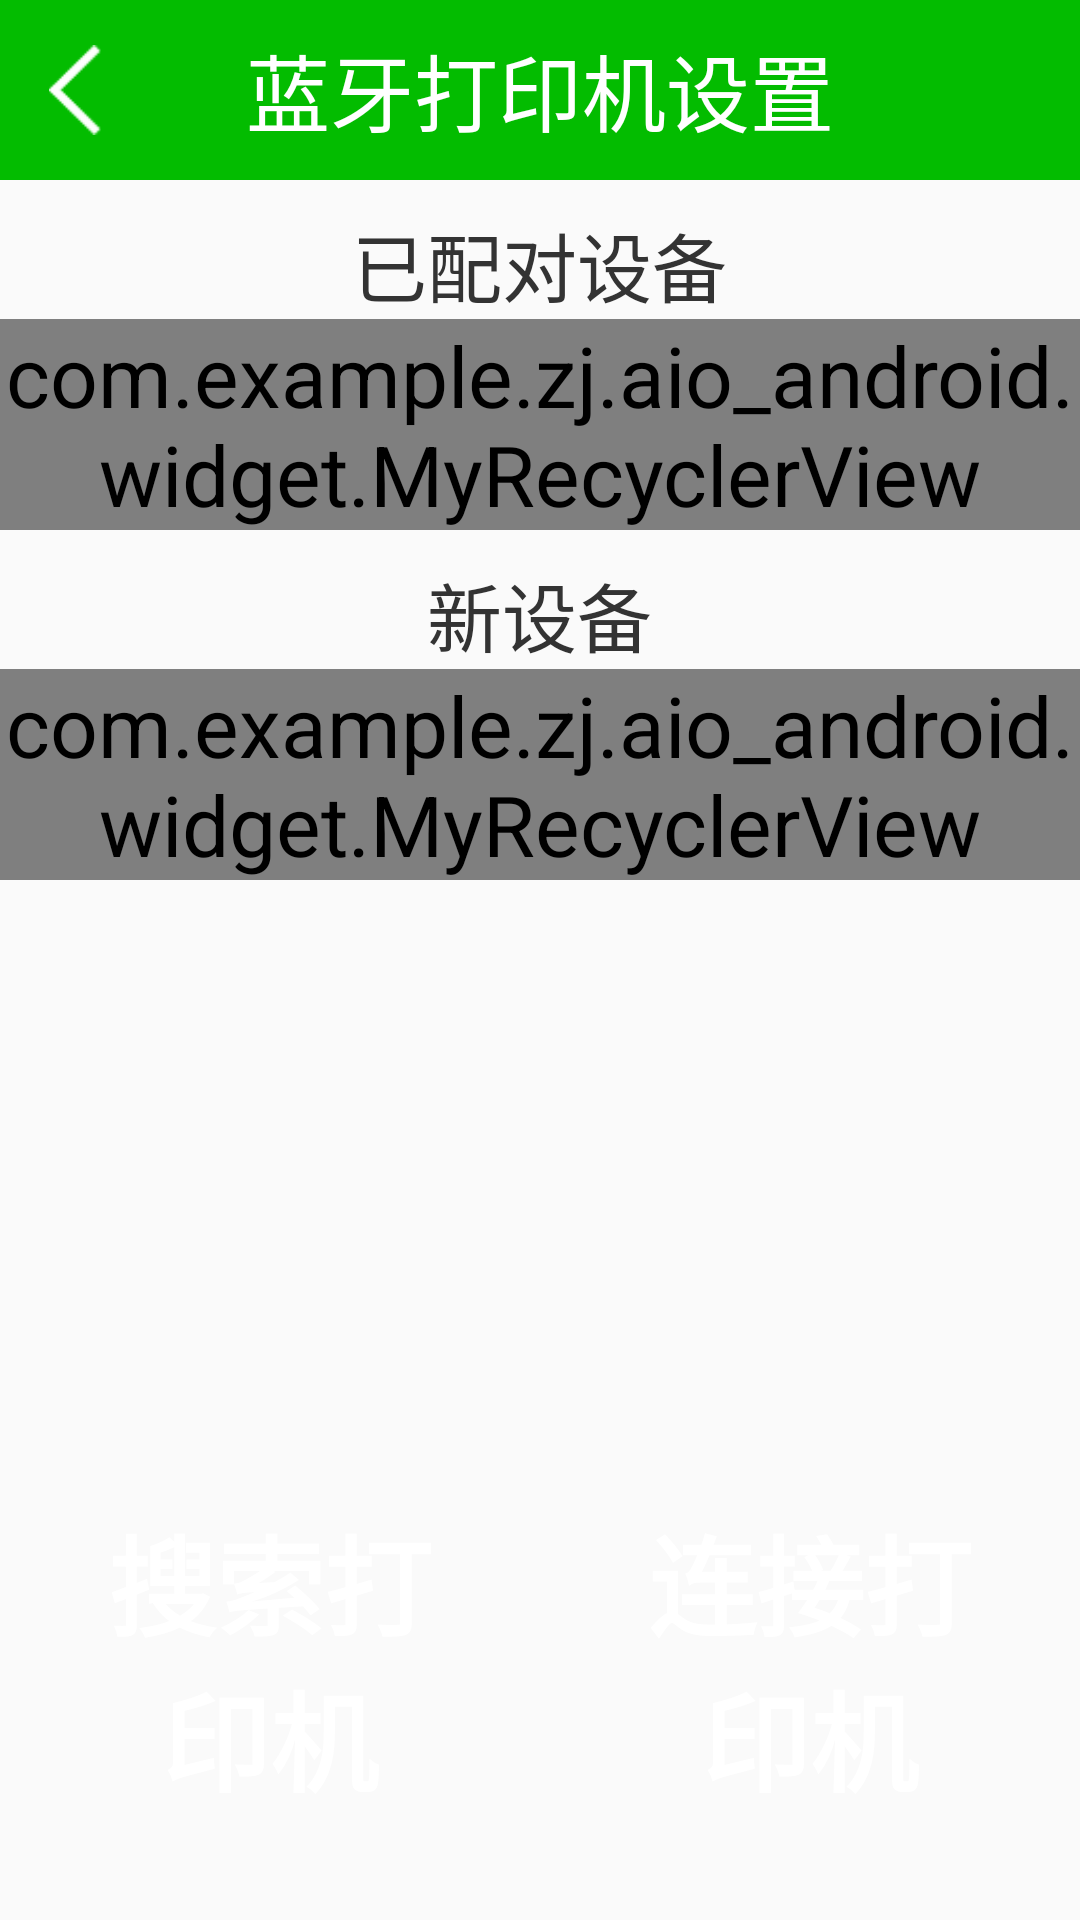

Screen size 1080×1920. Icon name, then its center in pixels as (x,y):
back: (75,90)
